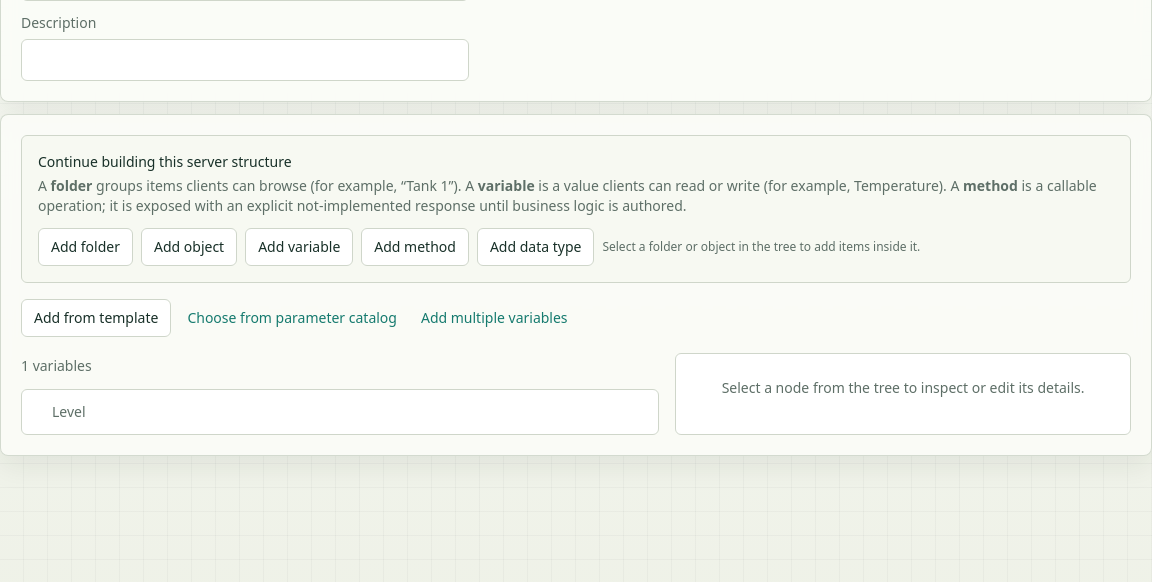
Test: ManualSchemaEditorPage (UI-490) › creates a manual structured DATA_TYPE with its first member
Expected: the text "Level" is shown, 52,402 -> 86,422
Click the button "Add data type".
click(536, 247)  # box 477,228 -> 594,266
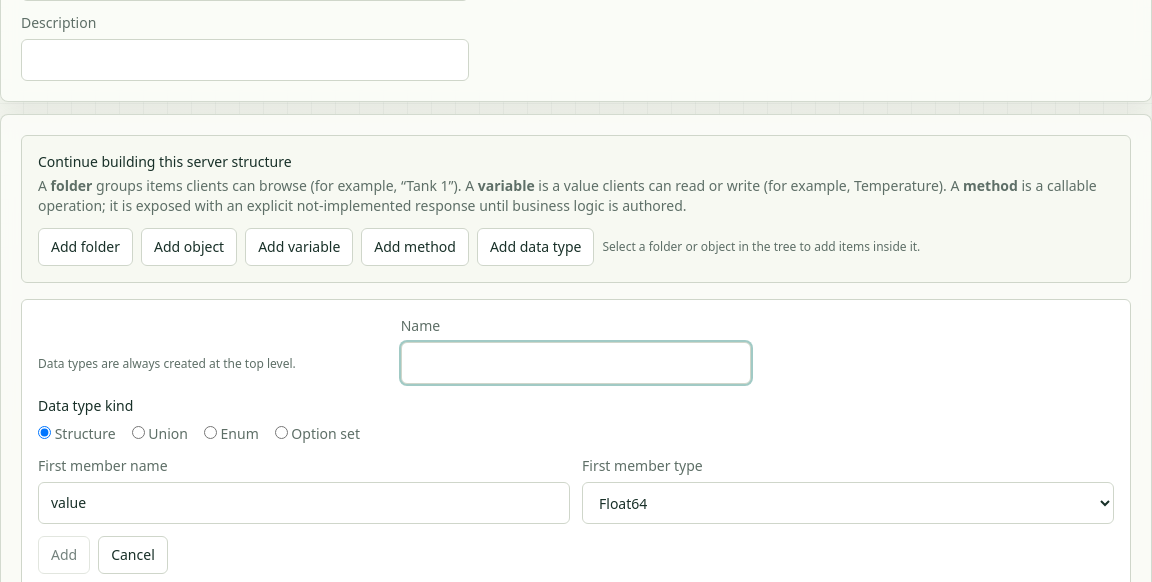
Type "PumpState" into the field labelled "Name" below "Continue building this server structure".
click(576, 363); type("PumpState")  # box 401,342 -> 751,384
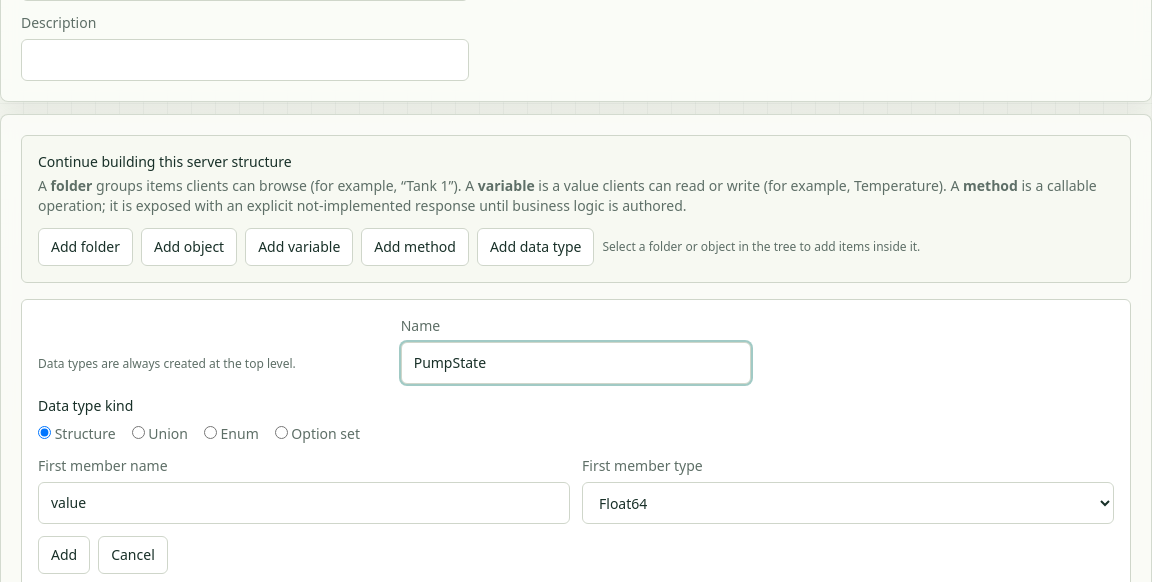
Replace the text in the field labelled "First member name" with "mode" at (304, 503), box 38,482 -> 570,524
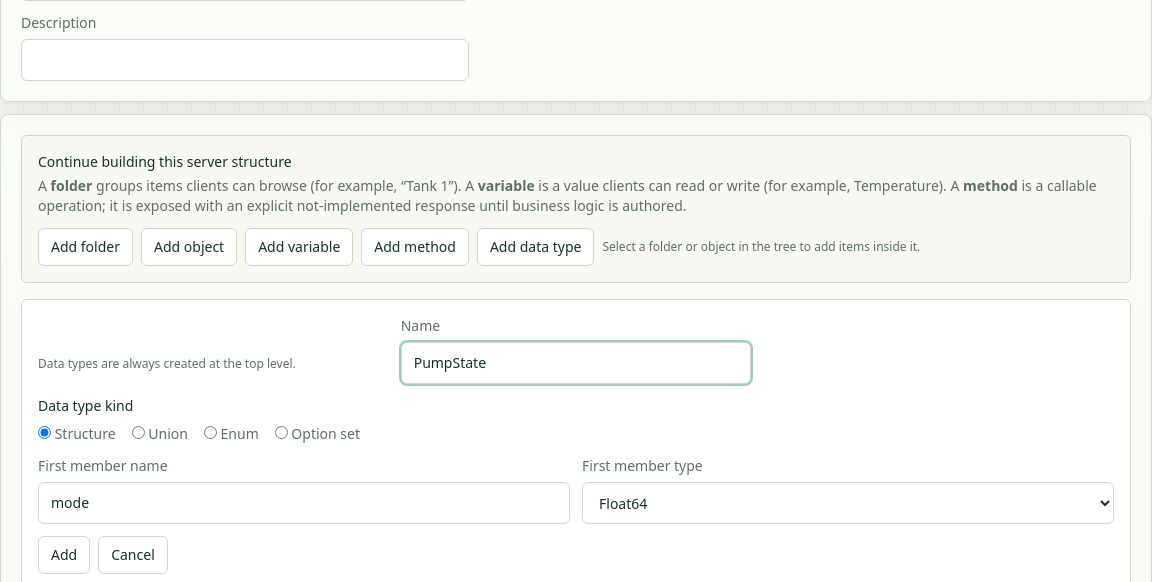
Select "Int32" in the dropdown labelled "First member type" at (848, 503), box 582,482 -> 1114,524
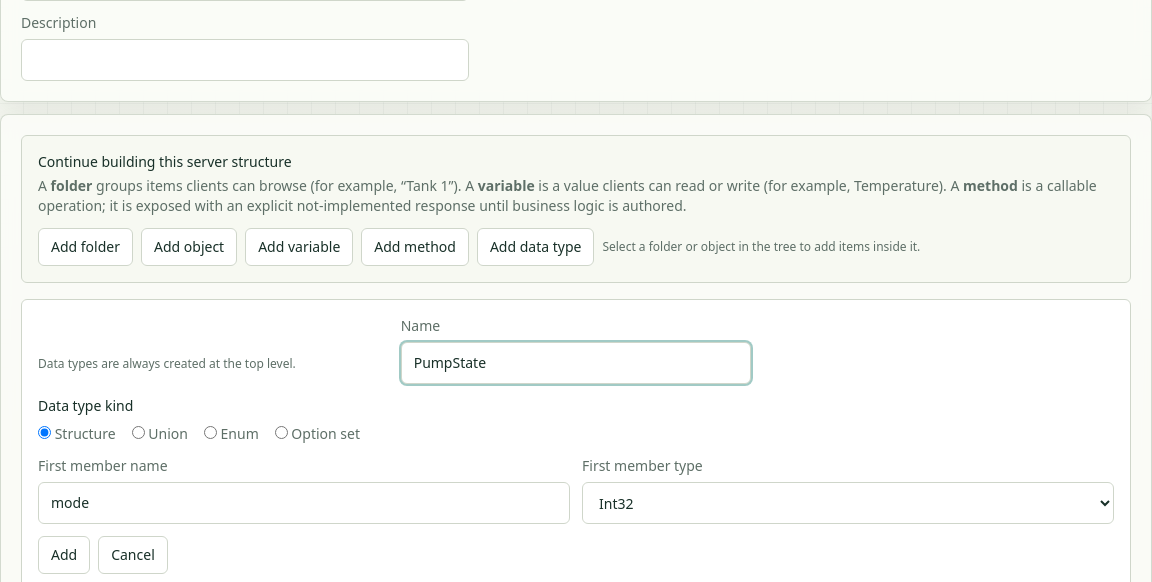
Click the button "Add".
click(64, 555)  # box 38,536 -> 90,574
(page scrolled)
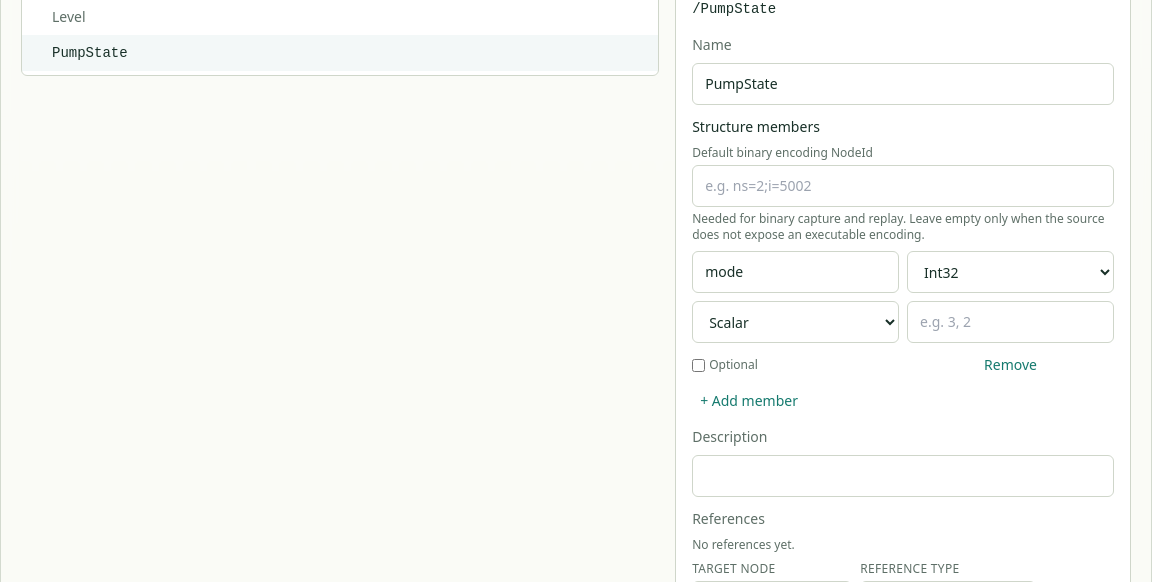
Now the dropdown named "Structure member 1 type" shows "Int32", box 907,251 -> 1114,293
Now the text "PumpState" is shown, box 52,45 -> 128,61
Now the field showing "mode" is shown, box 692,251 -> 899,293
